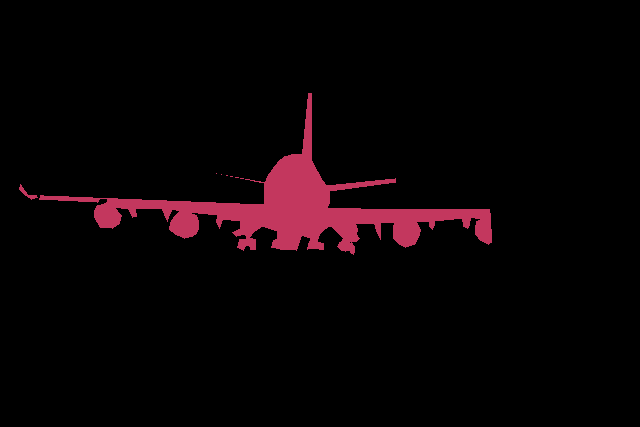Airplane: (19, 93, 492, 255)
